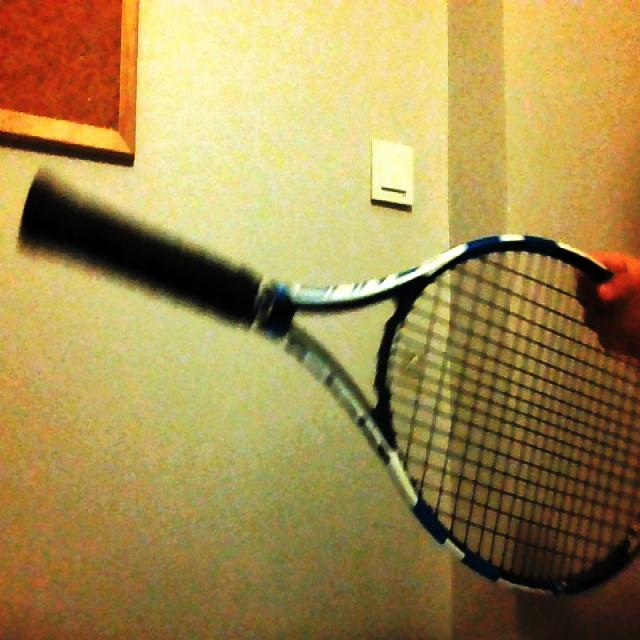TennisRacket: (21, 96, 636, 596)
